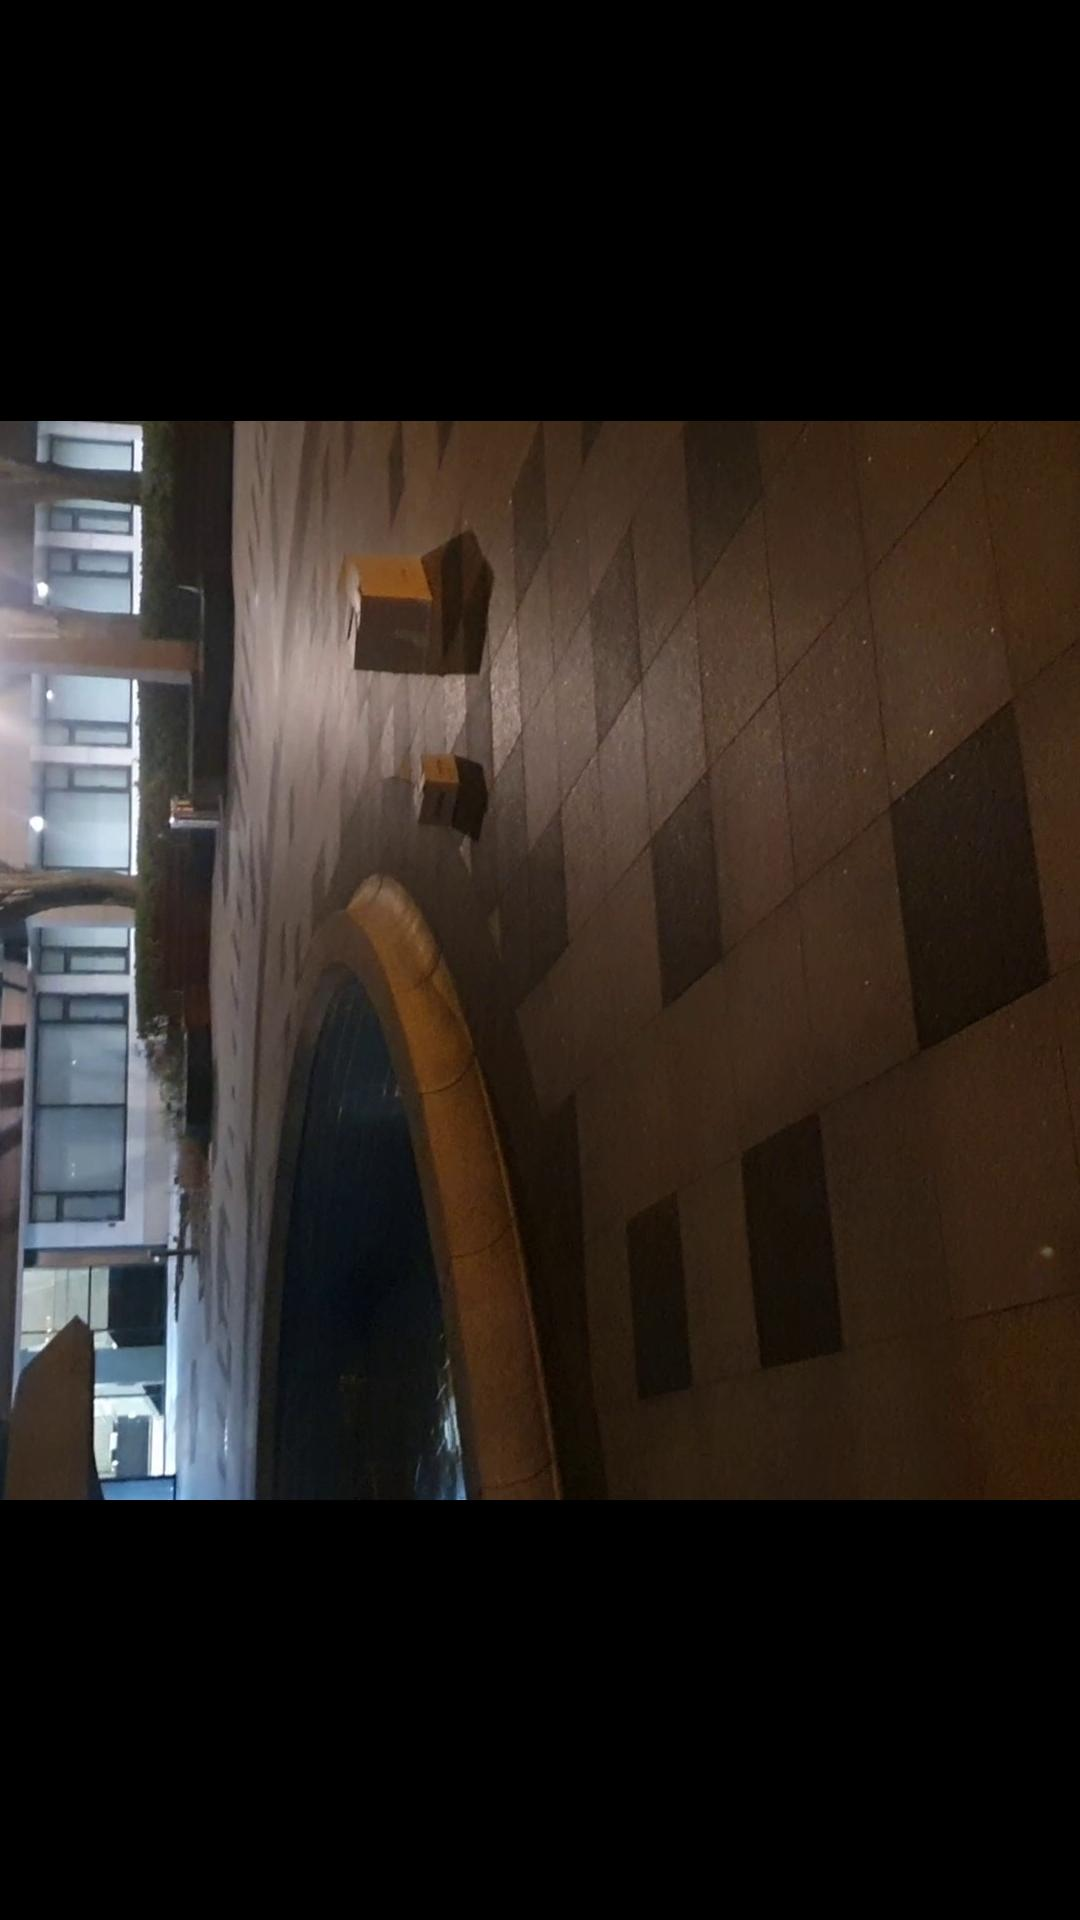Box: (335, 530, 455, 674), (404, 741, 469, 843)
